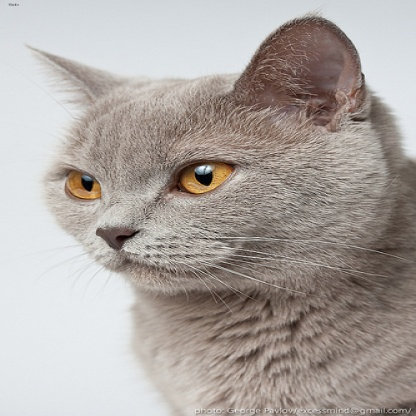british_shorthair: (22, 14, 409, 416)
